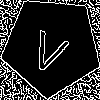V: (26, 21, 74, 76)
